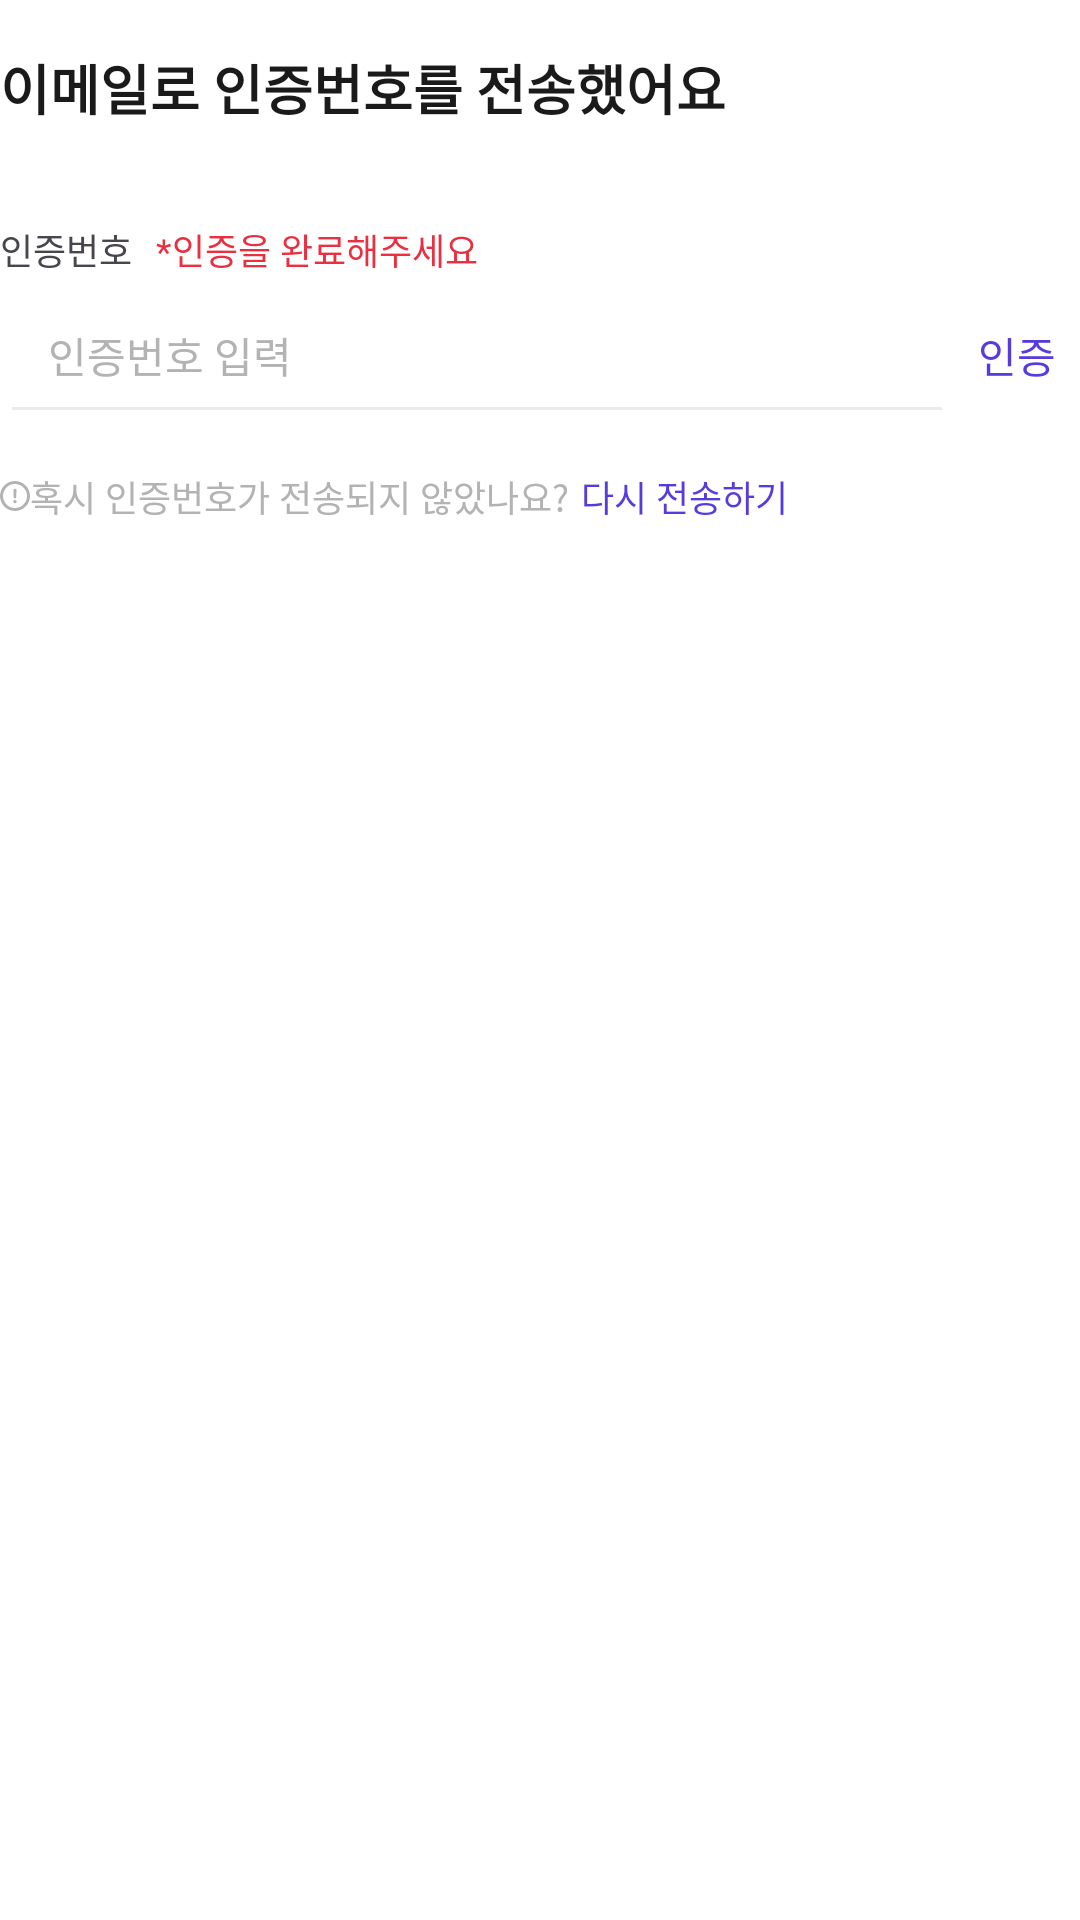

Icon bounding boxes for this 1080×1920 phone screenshot, format bbox(x1, y1, x2, y2):
info: bbox(0, 481, 30, 511)
